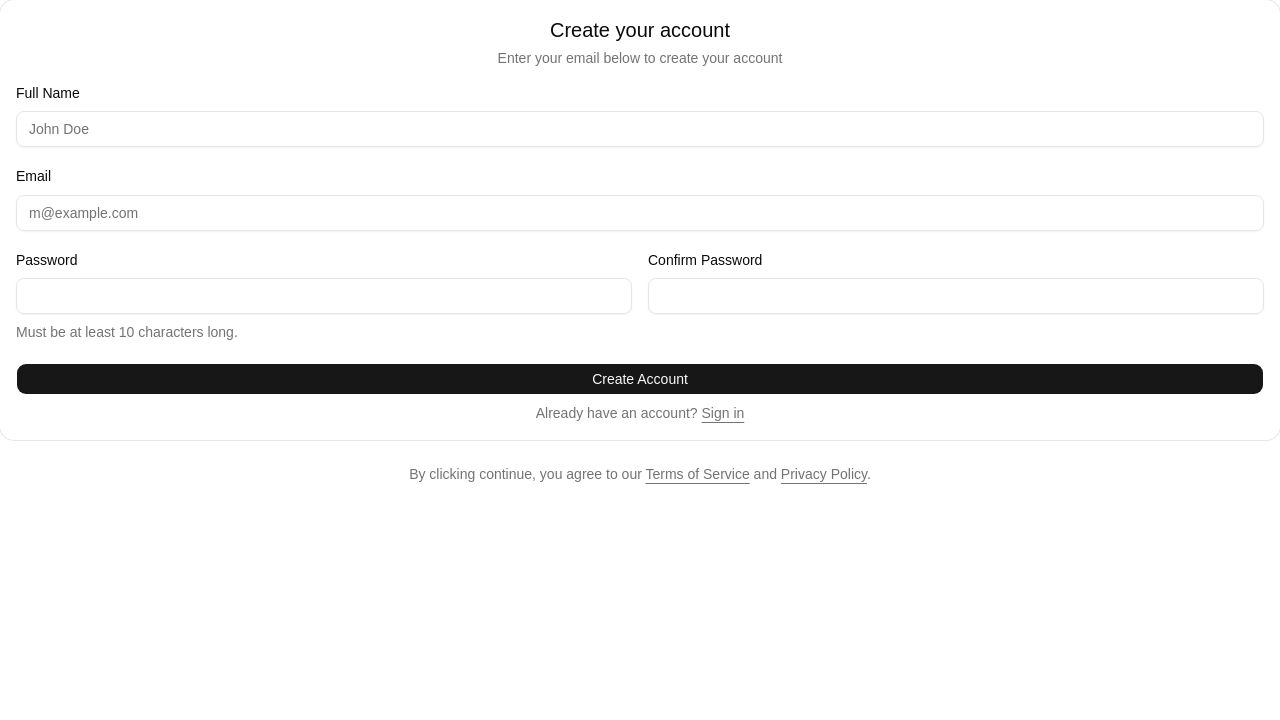
Test: SignupForm › shows an error when passwords do not match
The width and height of the screenshot is (1280, 720).
Type "Jane Doe" into the field labelled "Full Name".
click(640, 129); type("Jane Doe")  # box [16,111,1264,147]
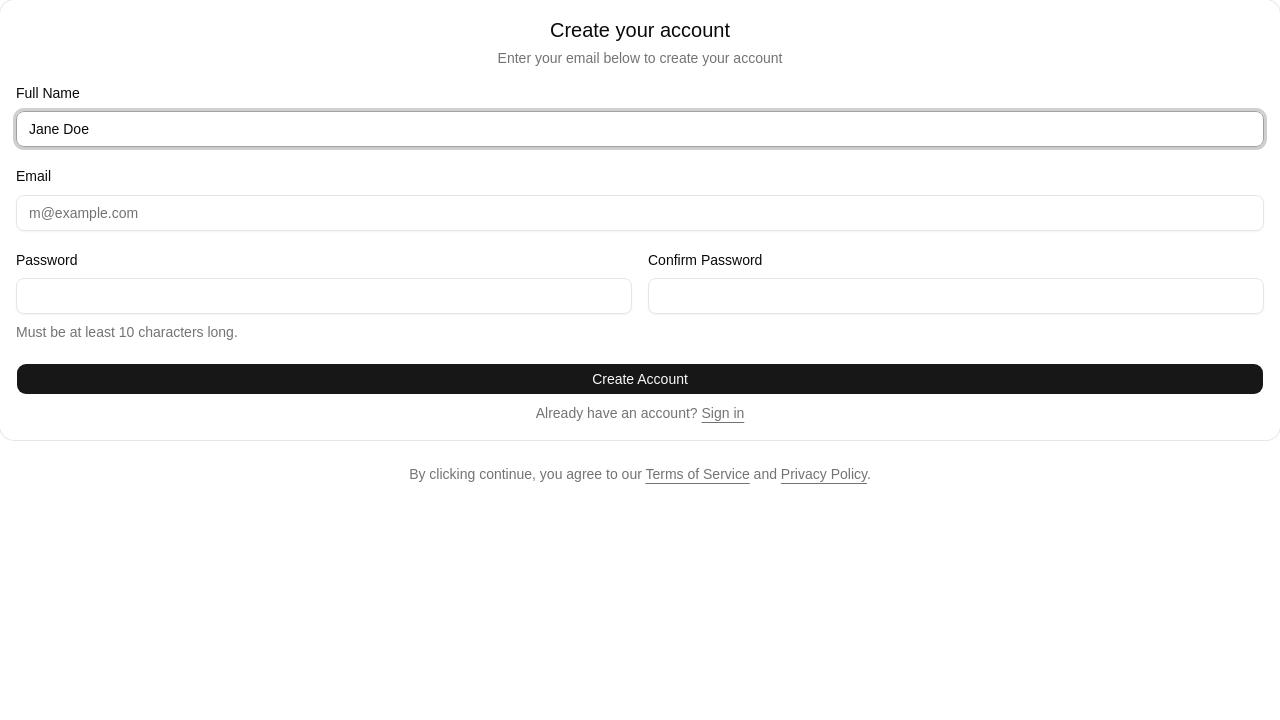
Type "jane@example.com" into the field labelled "Email".
click(640, 212); type("jane@example.com")  # box [16,194,1264,230]
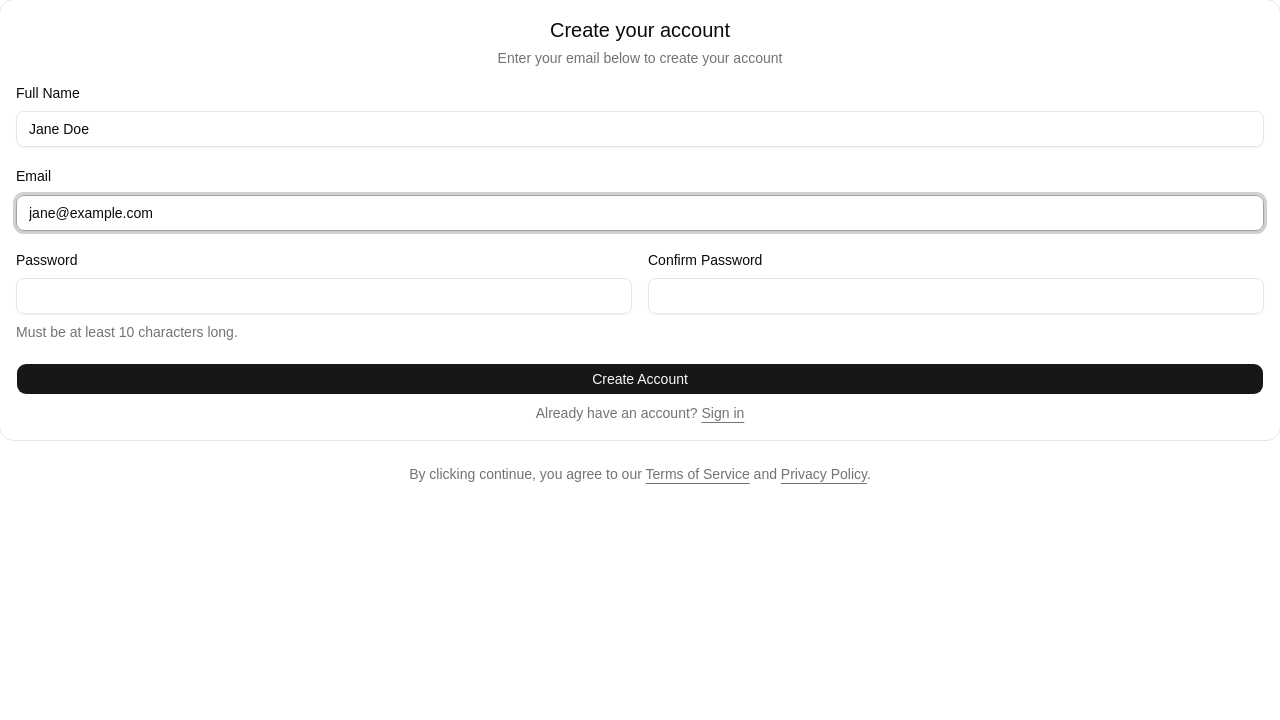
Type "password123" into the password field labelled "Password".
click(324, 296); type("password123")  # box [16,278,632,314]
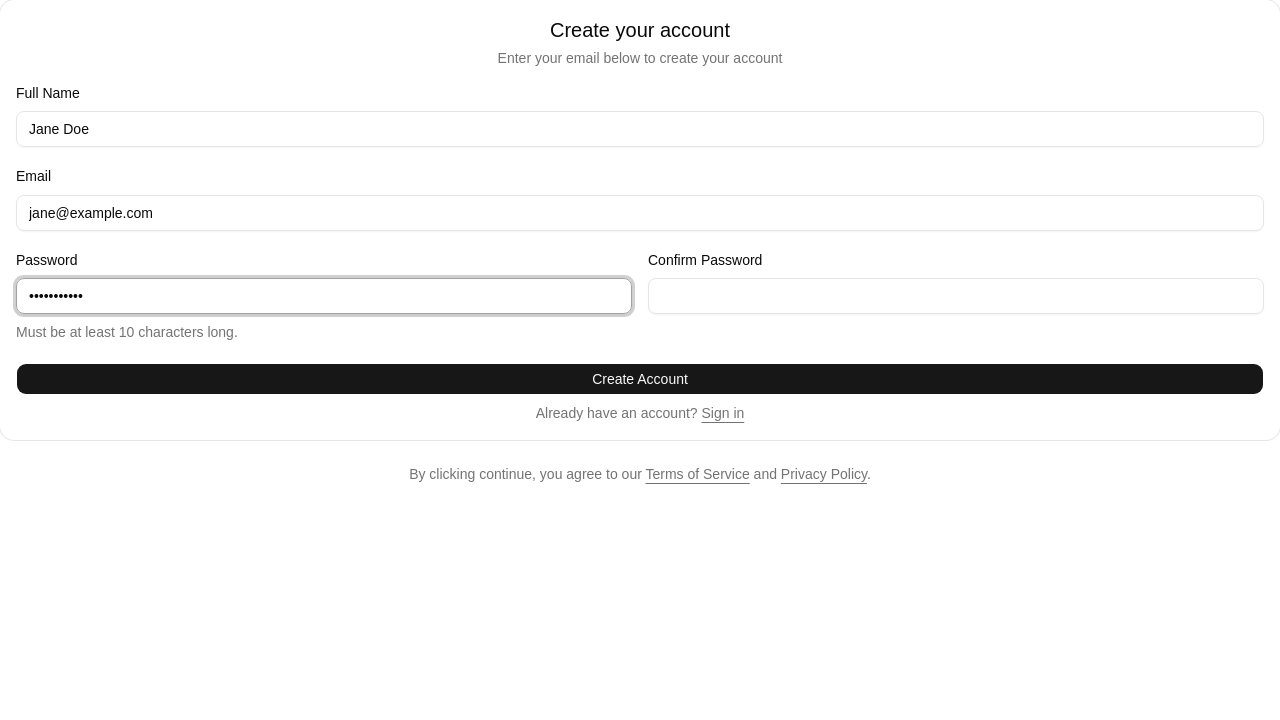
Type "different123" into the password field labelled "Confirm Password".
click(956, 296); type("different123")  # box [648,278,1264,314]
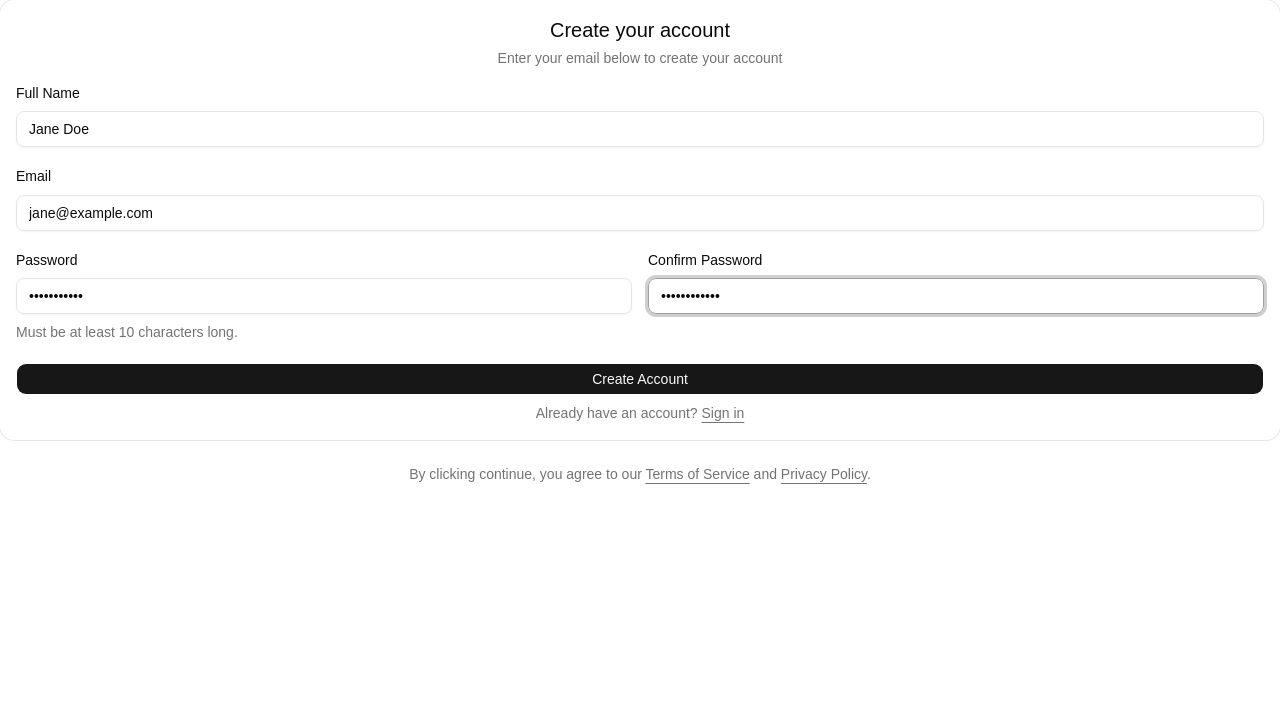
Click the button "Create Account".
click(640, 379)  # box [16,363,1264,395]
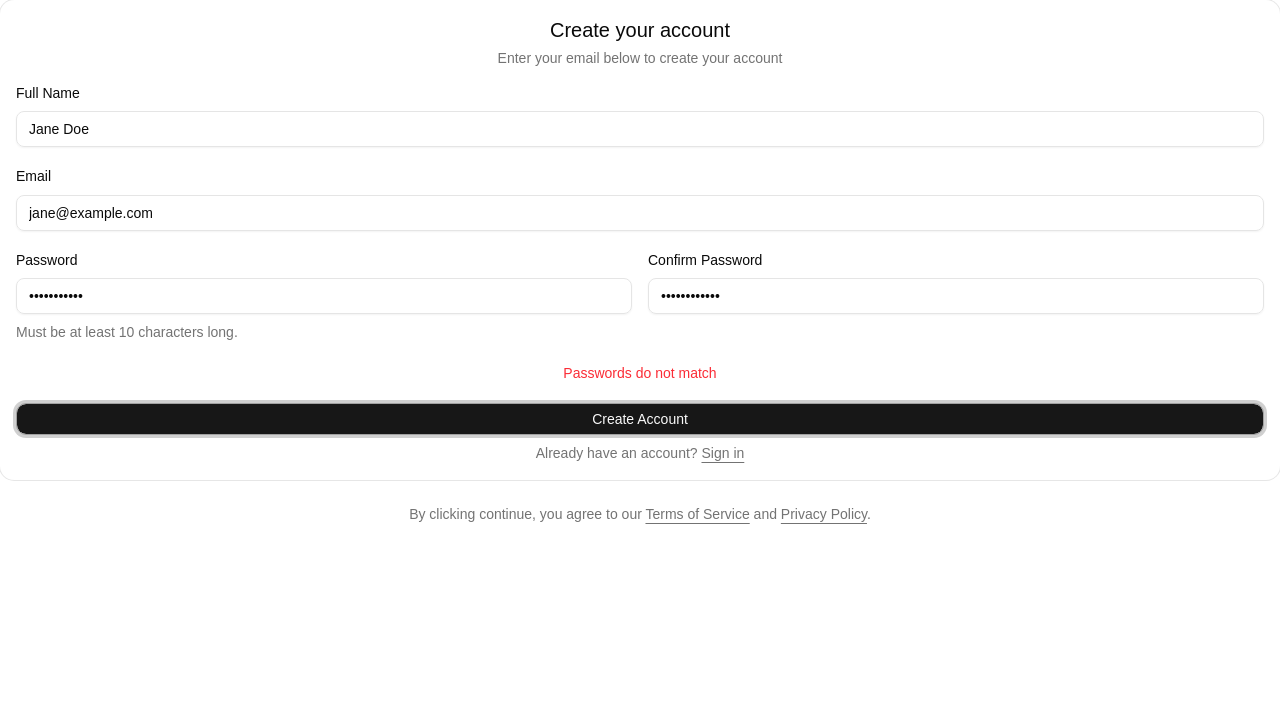
Expected: the text "Passwords do not match" is shown, [563,365,717,381]
